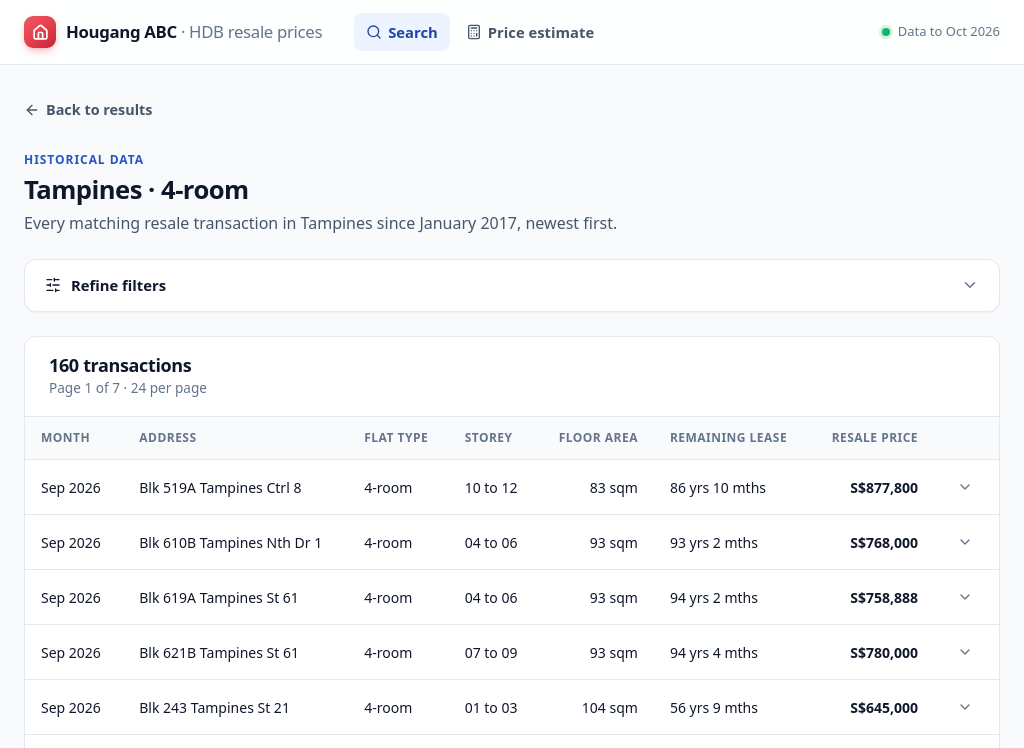
Test: S3 Historical Data Page (UC-4.3) › 'Back to results' returns to S2 with the same filters
Step 1. Click the link "Back to results" → (88, 110), box [24,100,152,119]
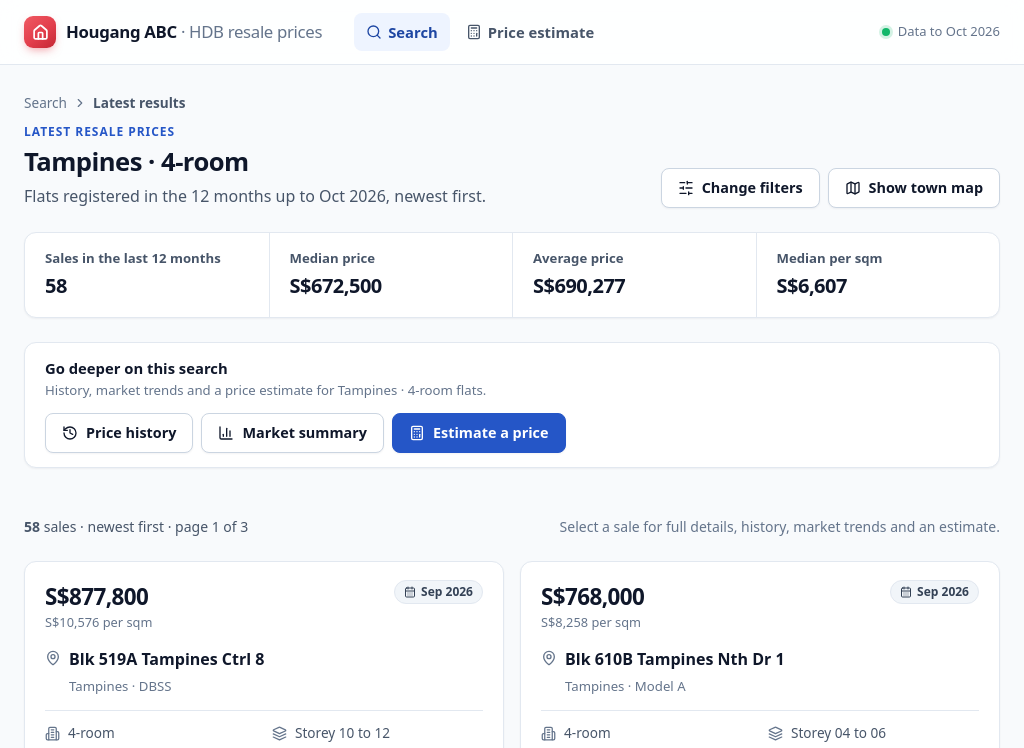
Expected: the text "Latest resale prices" is shown, [24,123,175,140]
